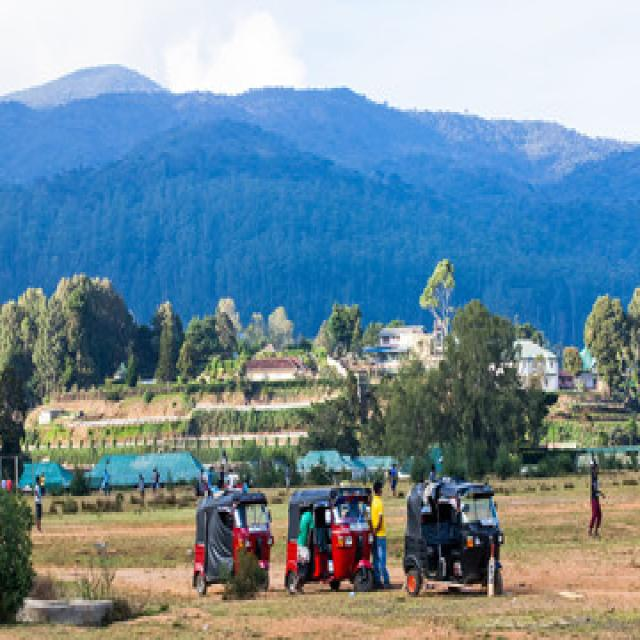person: (373, 483, 388, 587), (295, 507, 313, 592), (588, 453, 603, 536), (34, 480, 39, 531)
three wheeler: (404, 477, 501, 595), (284, 488, 372, 589), (194, 491, 272, 595)
